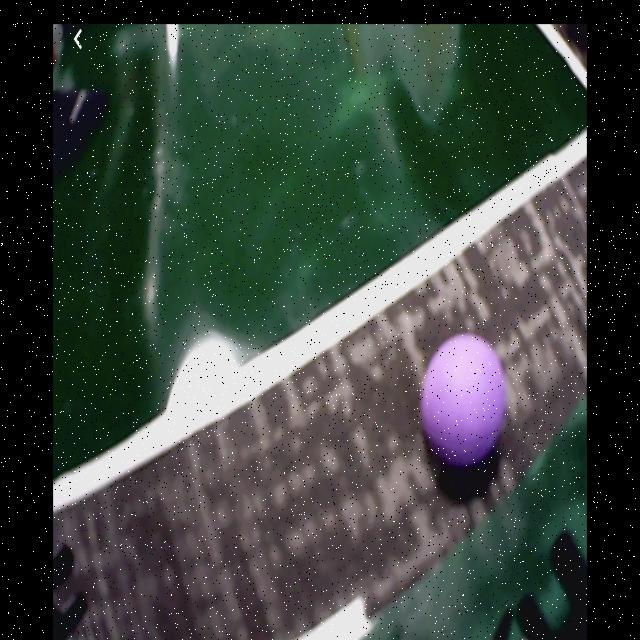ball: (422, 334, 507, 464)
